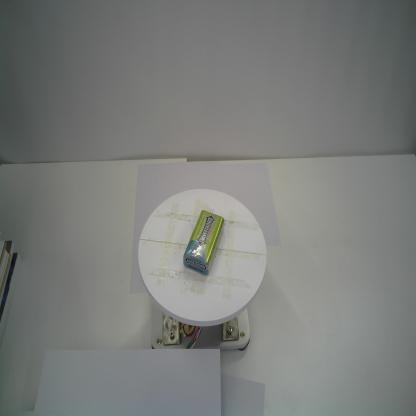Gum: (183, 208, 226, 278)
